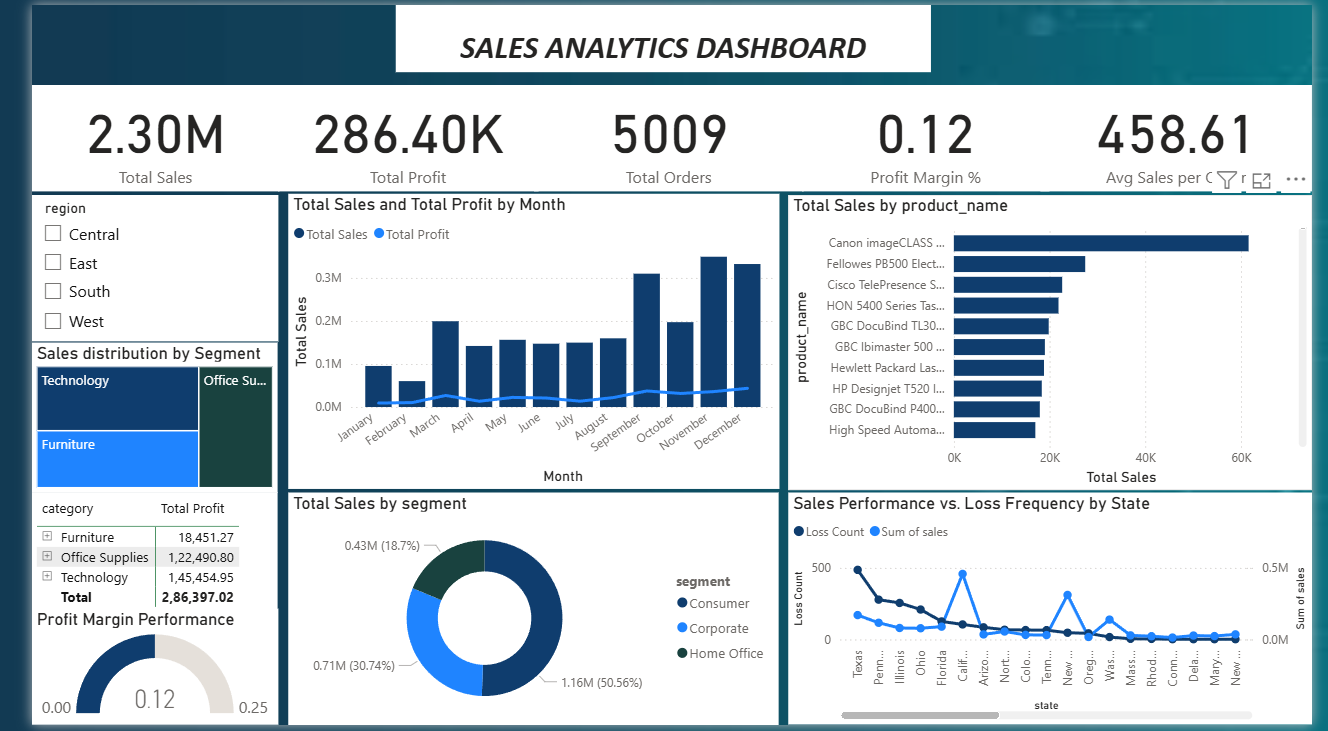

This screenshot's page, from the dashboard's own definition file:
{"tool":"powerbi","page":{"name":"Page 1","canvas":[1280,720],"ordinal":0},"visuals":[{"type":"card","fields":{"Values":["superstore_dataset.Total Sales"]},"box":[0,80,247.5,106.2],"z":1000},{"type":"card","fields":{"Values":["superstore_dataset.Total Profit"]},"box":[246.2,80,260,106.2],"z":2000},{"type":"card","fields":{"Values":["superstore_dataset.Total Orders"]},"box":[502.5,80,268.8,106.2],"z":3000},{"type":"card","fields":{"Values":["superstore_dataset.Profit Margin %"]},"box":[770,80,247.5,106.2],"z":4000},{"type":"card","fields":{"Values":["superstore_dataset.Avg Sales per Order"]},"box":[1008.8,80,271.2,106.2],"z":5000},{"type":"lineStackedColumnComboChart","fields":{"Category":["superstore_dataset.order_date.Variation.Date Hierarchy.Month"],"Y":["superstore_dataset.Total Sales"],"Y2":["superstore_dataset.Total Profit"]},"box":[256.2,188.8,491.2,295],"z":6000},{"type":"slicer","fields":{"Values":["superstore_dataset.region"]},"box":[0,190,246.2,146.2],"z":7000},{"type":"textbox","box":[363.8,0,535,67.5],"z":8000},{"type":"treemap","title":"Sales distribution by Segment","fields":{"Group":["superstore_dataset.category"],"Values":["superstore_dataset.Total Sales"]},"box":[0,337.5,245.8,150.4],"z":9000},{"type":"clusteredBarChart","fields":{"Category":["superstore_dataset.product_name"],"Y":["superstore_dataset.Total Sales"]},"box":[756.2,190,523.8,295],"z":10000},{"type":"pivotTable","fields":{"Rows":["superstore_dataset.category","superstore_dataset.sub-category"],"Values":["superstore_dataset.Total Profit"]},"box":[0,487.9,245.8,130.8],"z":11000},{"type":"donutChart","fields":{"Series":["superstore_dataset.segment"],"Y":["superstore_dataset.Total Sales"]},"box":[256.2,487.5,490,232.5],"z":12000},{"type":"gauge","title":"Profit Margin Performance","fields":{"Y":["superstore_dataset.Profit Margin %"]},"box":[0,603.8,246.2,116.2],"z":13000},{"type":"lineChart","title":"Sales Performance vs. Loss Frequency by State","fields":{"Category":["superstore_dataset.state"],"Y2":["Sum(superstore_dataset.sales)"],"Y":["superstore_dataset.Loss Count"]},"box":[756,488,524,232],"z":14000}]}

Visuals, with their boxes in screenshot pixels (x1, y1, x2, y2), scaled from the page's 1280x720 canvas onto the 1328x731 screenshot:
card - superstore_dataset.Total Sales: l=0, t=81, r=257, b=189
card - superstore_dataset.Total Profit: l=255, t=81, r=525, b=189
card - superstore_dataset.Total Orders: l=521, t=81, r=800, b=189
card - superstore_dataset.Profit Margin %: l=799, t=81, r=1056, b=189
card - superstore_dataset.Avg Sales per Order: l=1047, t=81, r=1327, b=189
lineStackedColumnComboChart - superstore_dataset.order_date.Variation.Date Hierarchy.Month x superstore_dataset.Total Sales: l=266, t=192, r=775, b=491
slicer - superstore_dataset.region: l=0, t=193, r=255, b=341
textbox: l=377, t=0, r=933, b=69
"Sales distribution by Segment" treemap: l=0, t=343, r=255, b=495
clusteredBarChart - superstore_dataset.product_name x superstore_dataset.Total Sales: l=785, t=193, r=1327, b=492
pivotTable - superstore_dataset.category x superstore_dataset.sub-category: l=0, t=495, r=255, b=628
donutChart - superstore_dataset.segment x superstore_dataset.Total Sales: l=266, t=495, r=774, b=730
"Profit Margin Performance" gauge: l=0, t=613, r=255, b=730
"Sales Performance vs. Loss Frequency by State" lineChart: l=784, t=495, r=1327, b=730
